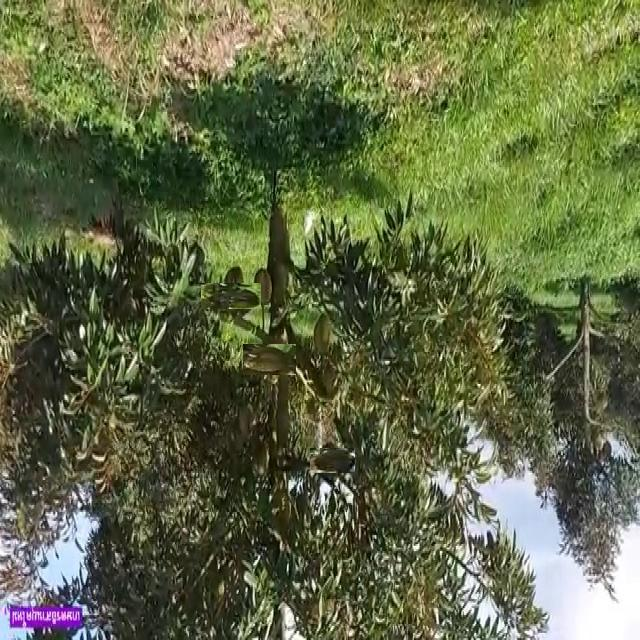durian: (209, 274, 253, 317), (248, 338, 291, 380), (314, 443, 350, 478), (311, 313, 333, 359), (252, 262, 274, 306)
